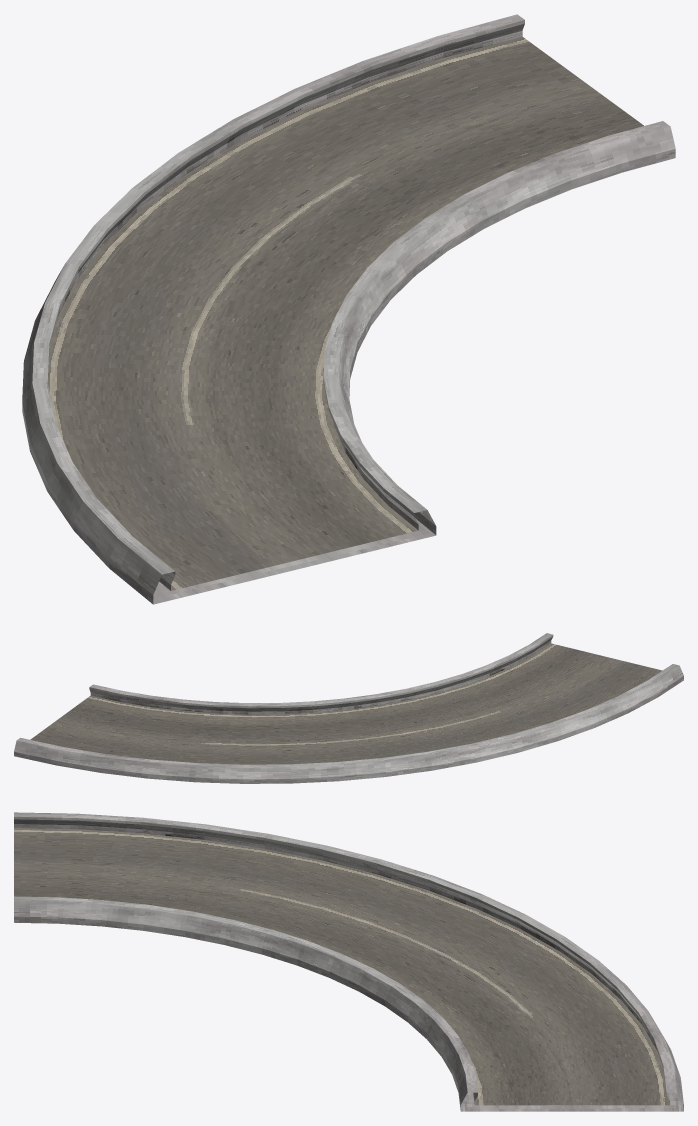
File: turn-right3x3.glb
3 views of the same model, one above another, from view 1: azimuth 30°, elevation 25°; view 2: azimuth 150°, elevation 25°; view 3: azimuth 270°, elevation 25° (orthographic). The views are drawn at different scales.
Visible parts, largest first — view 1: road-Turn-Flat-Flat-Even-Right-Size3; view 2: road-Turn-Flat-Flat-Even-Right-Size3; view 3: road-Turn-Flat-Flat-Even-Right-Size3.
Boxes of the visible parts, left/top/right/bottom form: road-Turn-Flat-Flat-Even-Right-Size3: left=22, top=14, right=675, bottom=604; road-Turn-Flat-Flat-Even-Right-Size3: left=14, top=633, right=683, bottom=783; road-Turn-Flat-Flat-Even-Right-Size3: left=14, top=812, right=683, bottom=1111.
Bounding box in the file's own units: 3 × 0.0938 × 3.
Materials: 2 (2 with a texture image).
